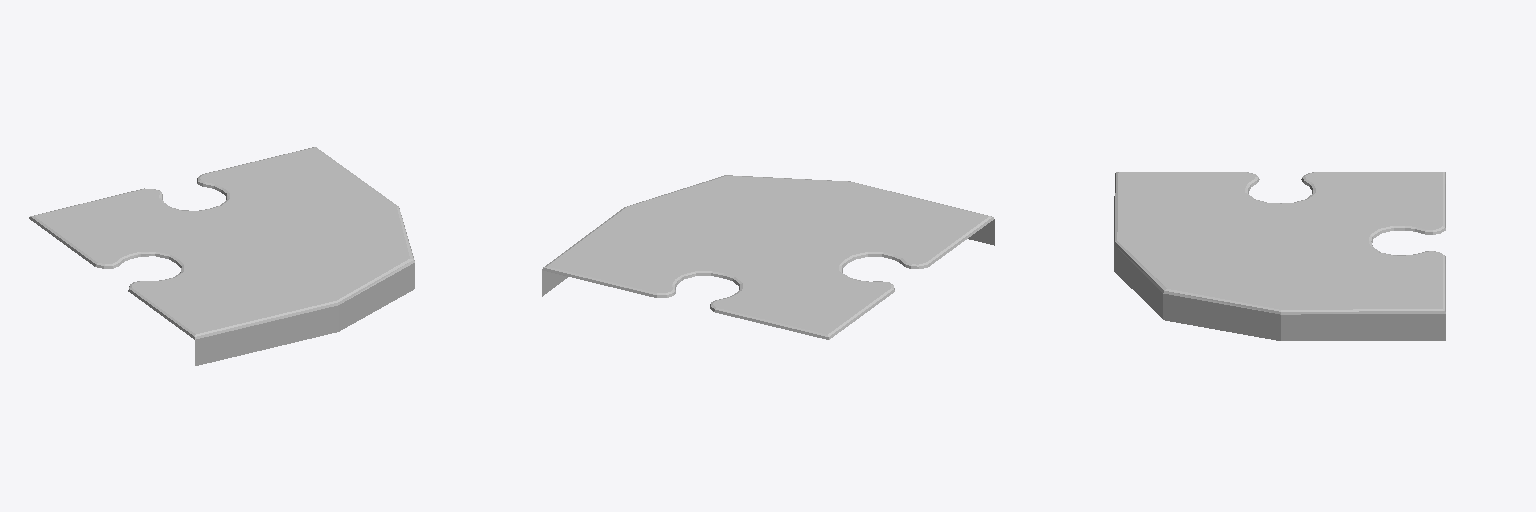
The model's file is Corner Bottom Right Dips.obj.
The picture shows the model from 3 angles: view 1: azimuth 30°, elevation 25°; view 2: azimuth 150°, elevation 25°; view 3: azimuth 270°, elevation 25°; orthographic projection.
Visible parts, largest first — view 1: PuzzleCornerBottomRighttDips; view 2: PuzzleCornerBottomRighttDips; view 3: PuzzleCornerBottomRighttDips.
Boxes of the visible parts, <box> form: PuzzleCornerBottomRighttDips: <box>29,147,414,365</box>; PuzzleCornerBottomRighttDips: <box>542,175,994,339</box>; PuzzleCornerBottomRighttDips: <box>1114,172,1445,340</box>.
Size of the model in its own units: 593 by 59.05 by 593.